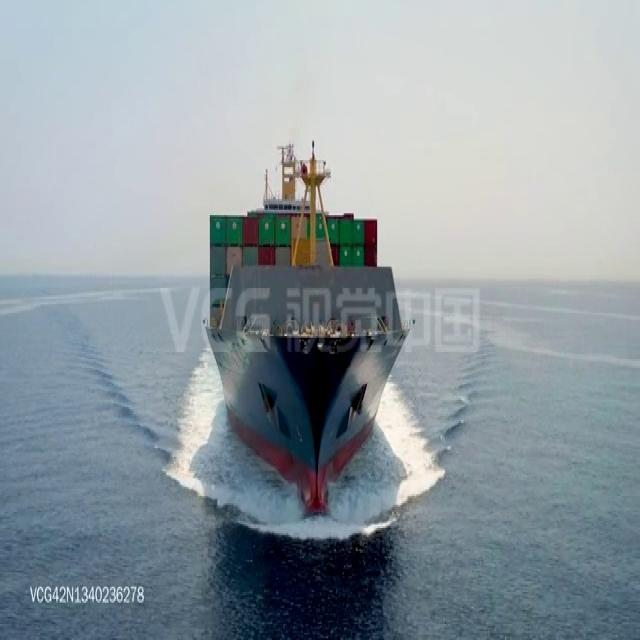cargoship: (203, 138, 417, 516)
